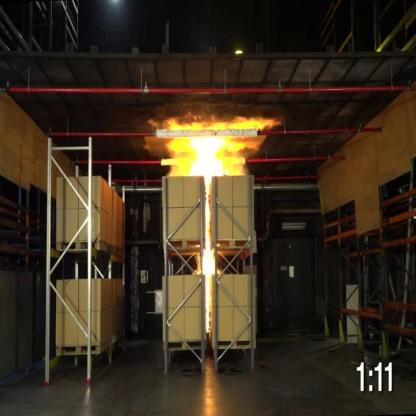fire: (141, 111, 285, 176), (196, 181, 218, 343)
